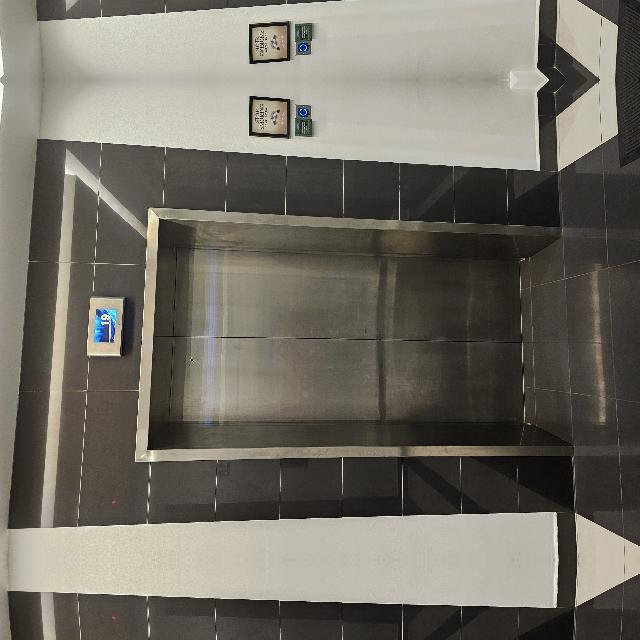door: (97, 212, 355, 640), (97, 466, 355, 640)
